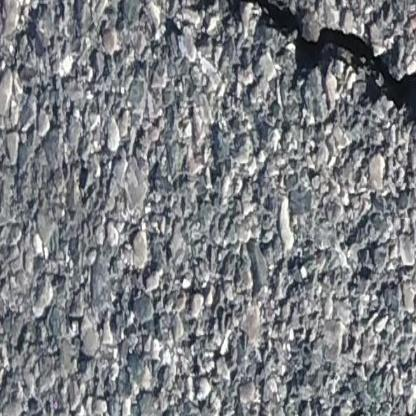Cracks: (184, 0, 416, 130)
